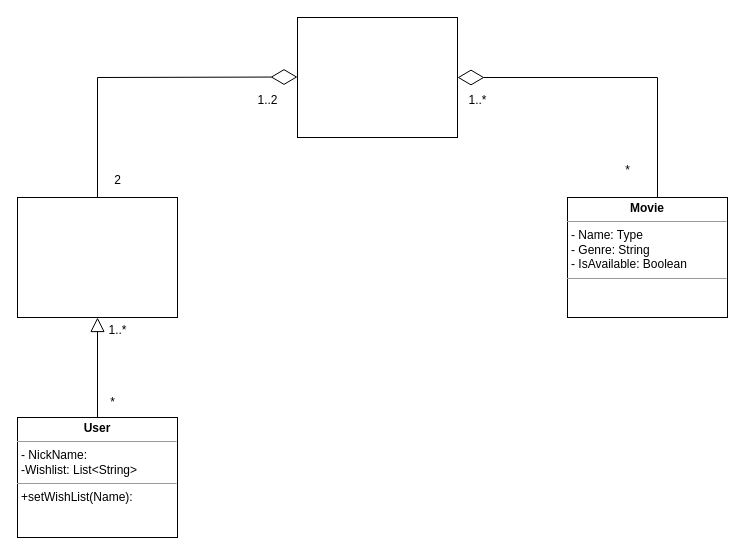
Image size: 745x555. Some labels were removed from this diagram. Here are the shapes that lost their labels. From the top down, the centre of each, then its label:
(377,77): Application - Movies: Boolean +setMember(Nick,Credit):
(97,257): Membership - İsMember: Boolean - Credit: Int +buyMovie(Name):
